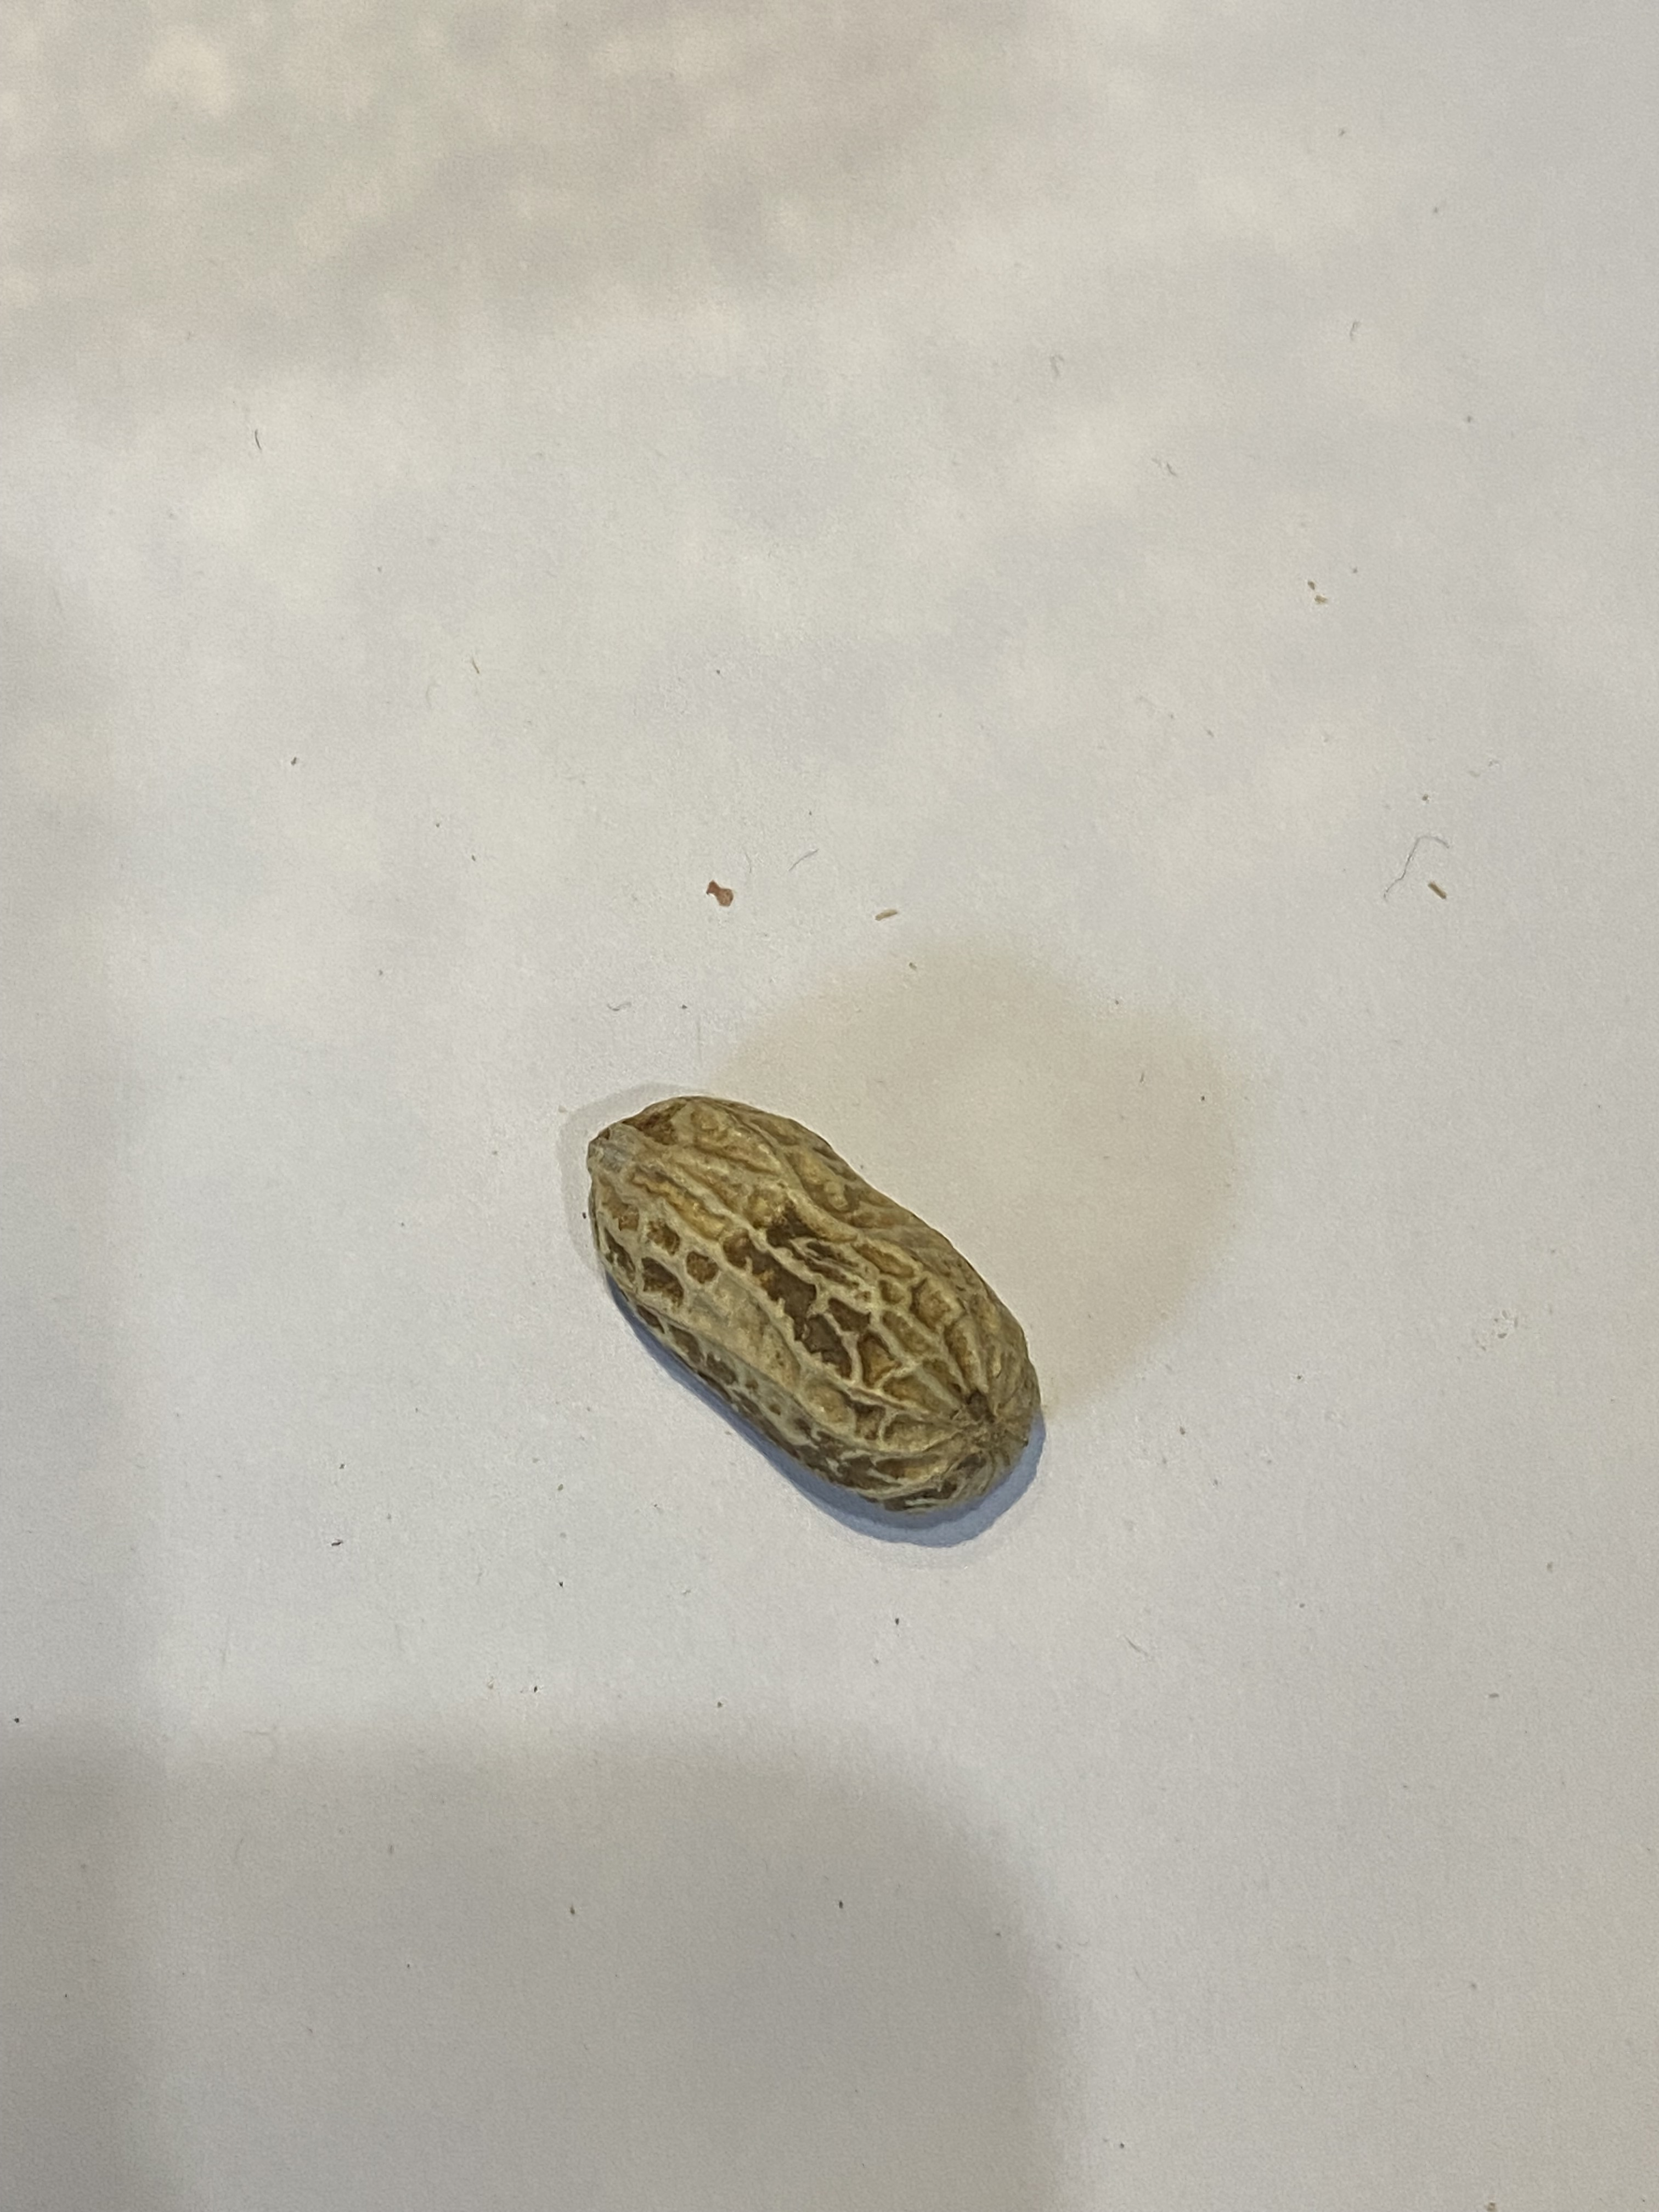kacang2: (559, 1042, 1047, 1524)
